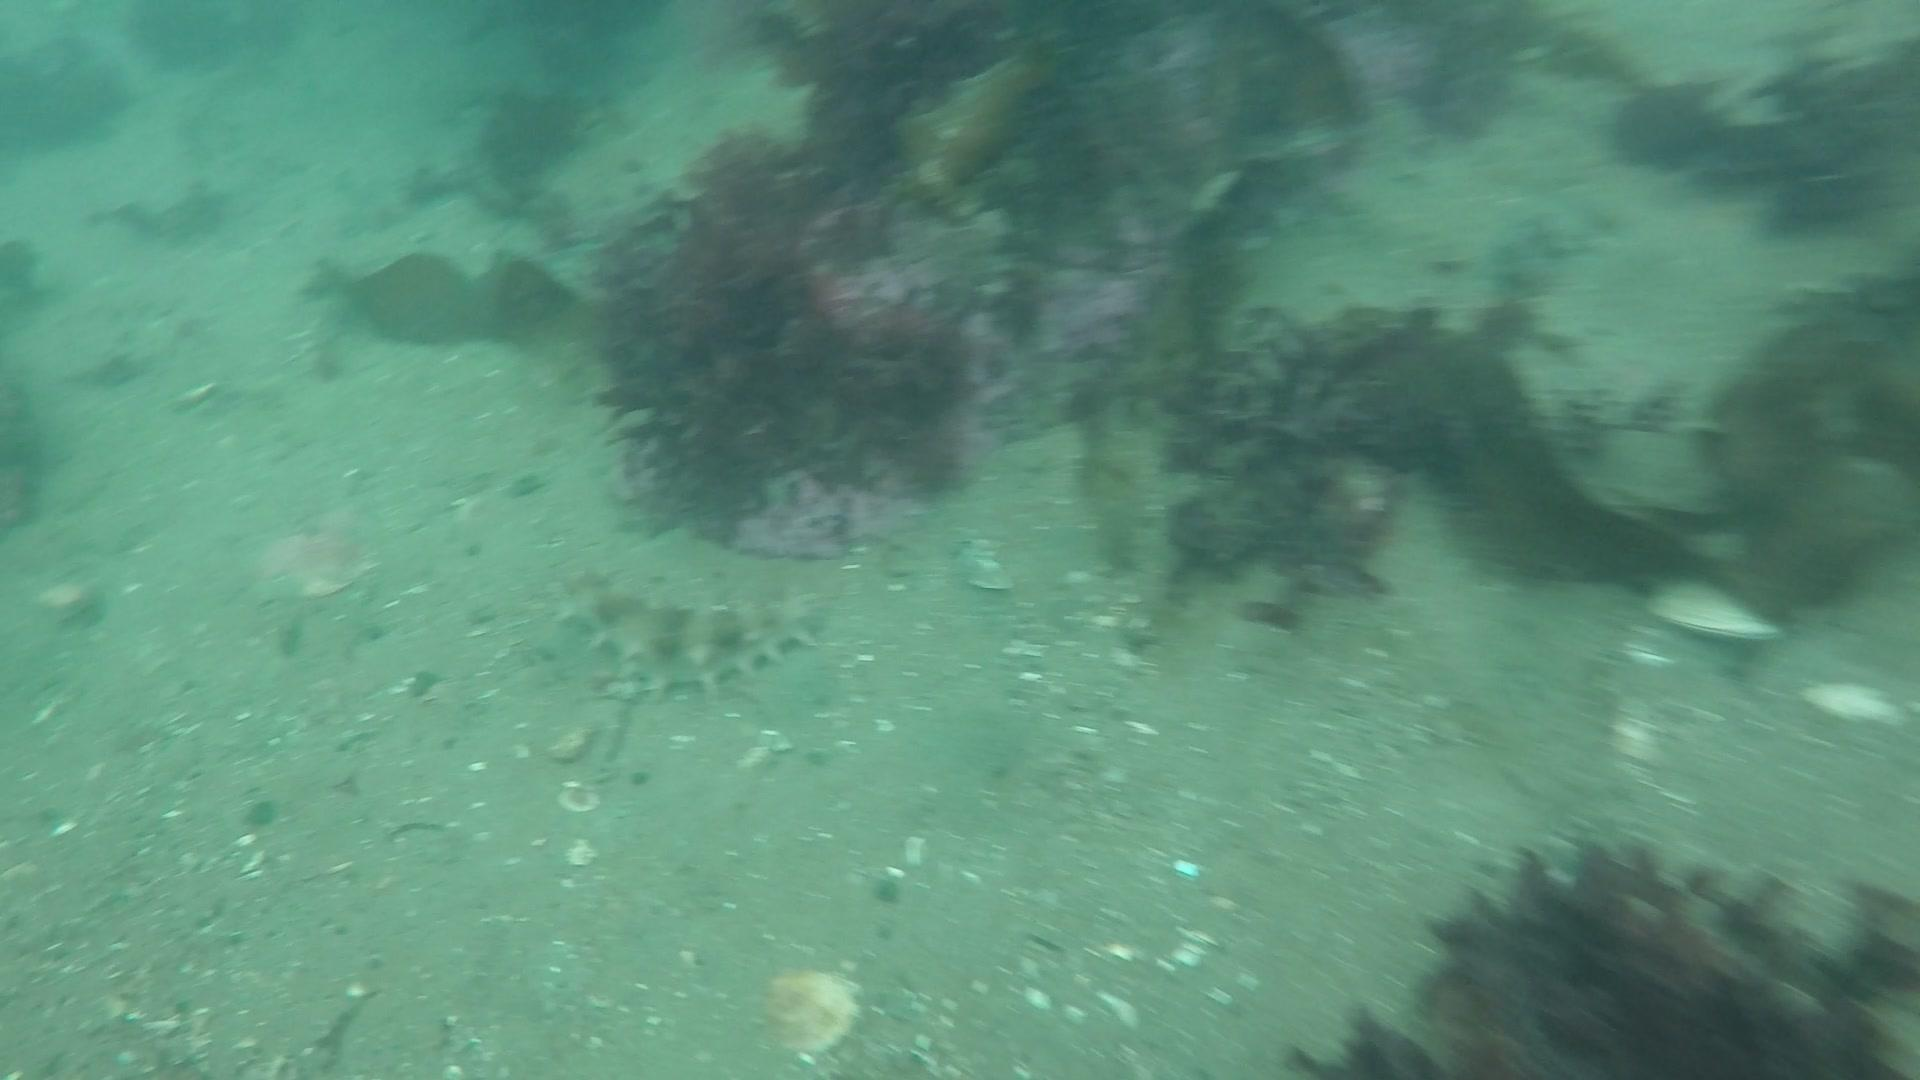holothurian: (550, 556, 827, 704)
scallop: (1648, 567, 1791, 651), (750, 963, 866, 1065)
